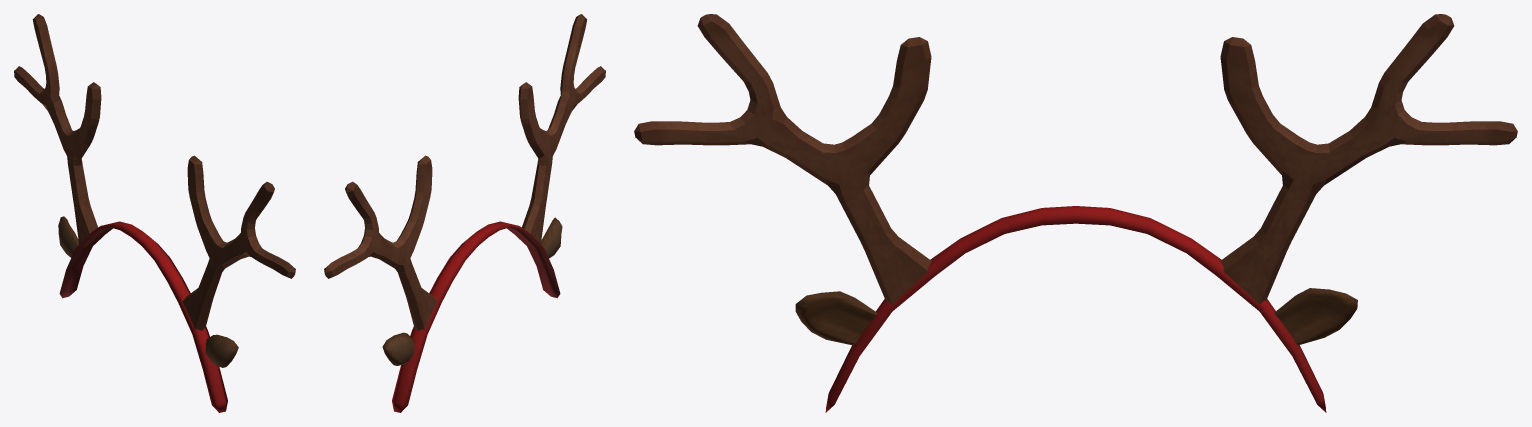
Rendered from xMasAntler.glb.
3 renders of one model, left to right at view 1: azimuth 30°, elevation 25°; view 2: azimuth 150°, elevation 25°; view 3: azimuth 270°, elevation 25°, orthographic. The views are drawn at different scales.
Visible parts, largest first — view 1: xMasAntler; view 2: xMasAntler; view 3: xMasAntler.
Boxes of the visible parts, bbox=[...] form: xMasAntler: bbox=[14, 14, 295, 412]; xMasAntler: bbox=[324, 14, 605, 412]; xMasAntler: bbox=[634, 14, 1517, 412].
Size of the model in its own units: 0.1325 by 1.13 by 2.24.
Materials: 1 (1 with a texture image).
